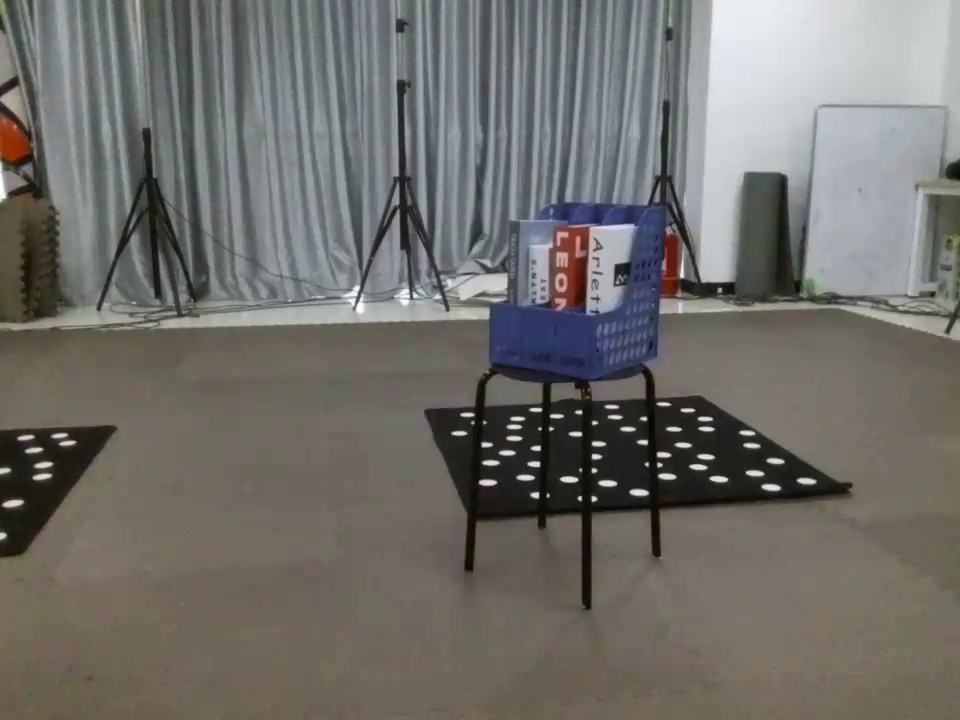files: (483, 193, 670, 380)
